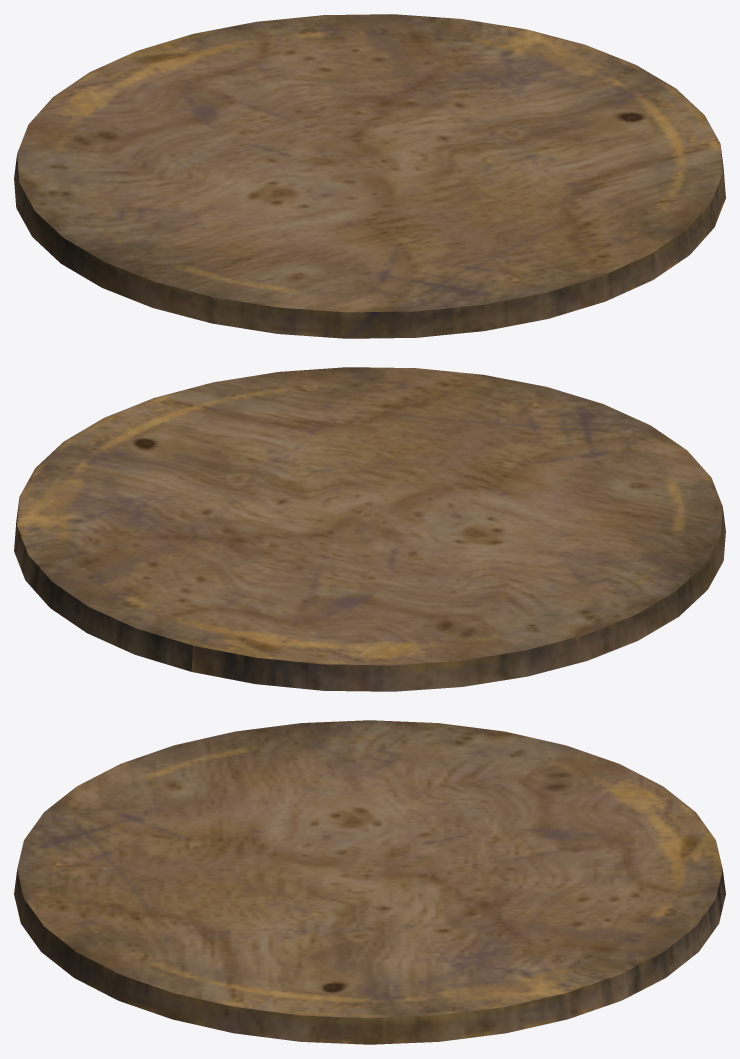
The model's file is Prop_Kitchen_Wood_x2.fbx.
The picture shows the model from 3 angles, top to bottom: view 1: azimuth 30°, elevation 25°; view 2: azimuth 150°, elevation 25°; view 3: azimuth 270°, elevation 25°; orthographic projection.
Parts seen in each view (by area): view 1: Prop_Kitchen_Wood_x2; view 2: Prop_Kitchen_Wood_x2; view 3: Prop_Kitchen_Wood_x2.
Part boxes in pixels (x1,y1,x2,y2): Prop_Kitchen_Wood_x2: [14, 14, 725, 338]; Prop_Kitchen_Wood_x2: [14, 367, 725, 691]; Prop_Kitchen_Wood_x2: [14, 720, 725, 1044].
Size of the model in its own units: 22.65 by 0.8776 by 22.65.
